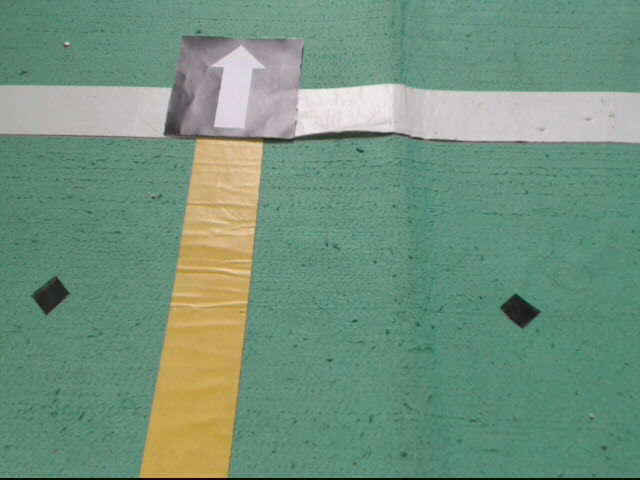straight: (161, 35, 303, 139)
